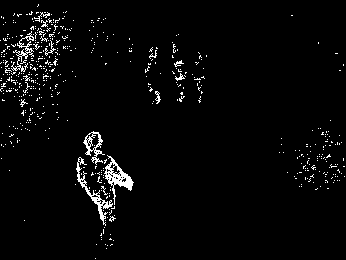person: (76, 130, 134, 247)
